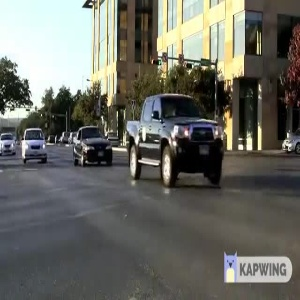car: (67, 123, 117, 166), (18, 123, 50, 166), (1, 129, 19, 159)
suv: (119, 94, 232, 191)
